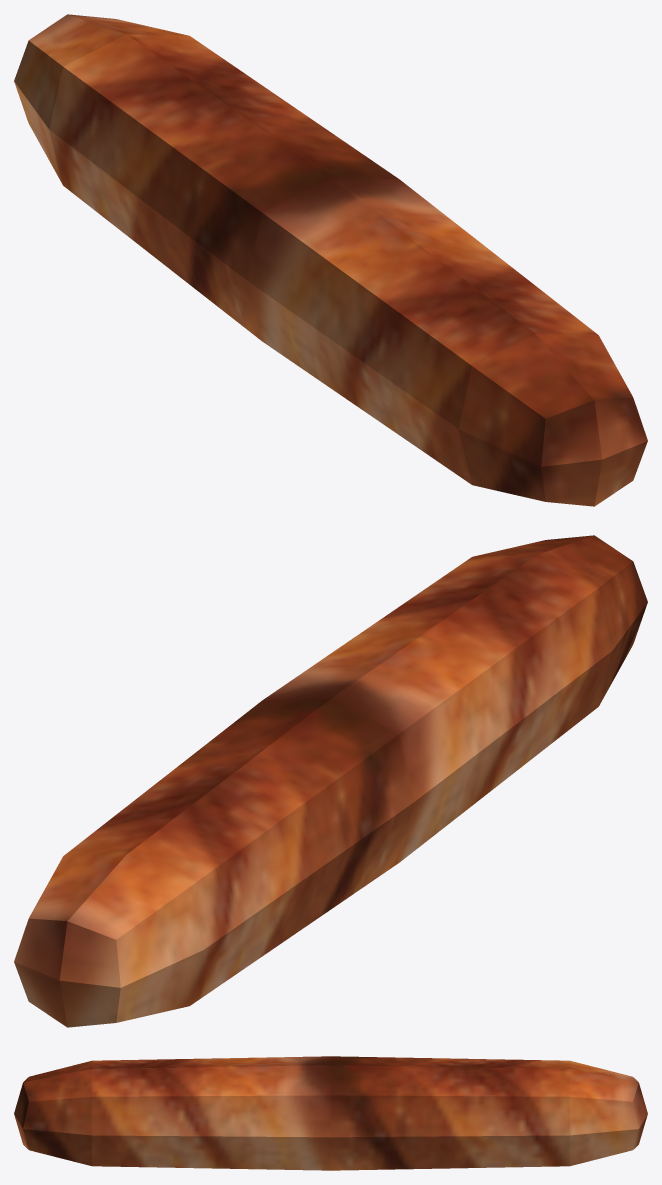
The model's file is golden_ease.fbx.
3 renders of one model, top to bottom at view 1: azimuth 30°, elevation 25°; view 2: azimuth 150°, elevation 25°; view 3: azimuth 270°, elevation 25°, orthographic. The views are drawn at different scales.
Parts seen in each view (by area): view 1: golden ease; view 2: golden ease; view 3: golden ease.
Boxes of the visible parts, bbox=[...] form: golden ease: bbox=[14, 14, 647, 506]; golden ease: bbox=[14, 535, 647, 1027]; golden ease: bbox=[14, 1056, 647, 1170].
Size of the model in its own units: 0.2082 by 1.17 by 0.1968.
